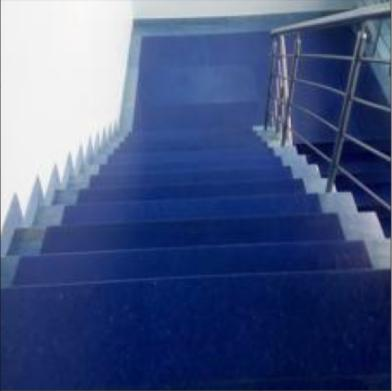Stair Down: (1, 126, 391, 299)
